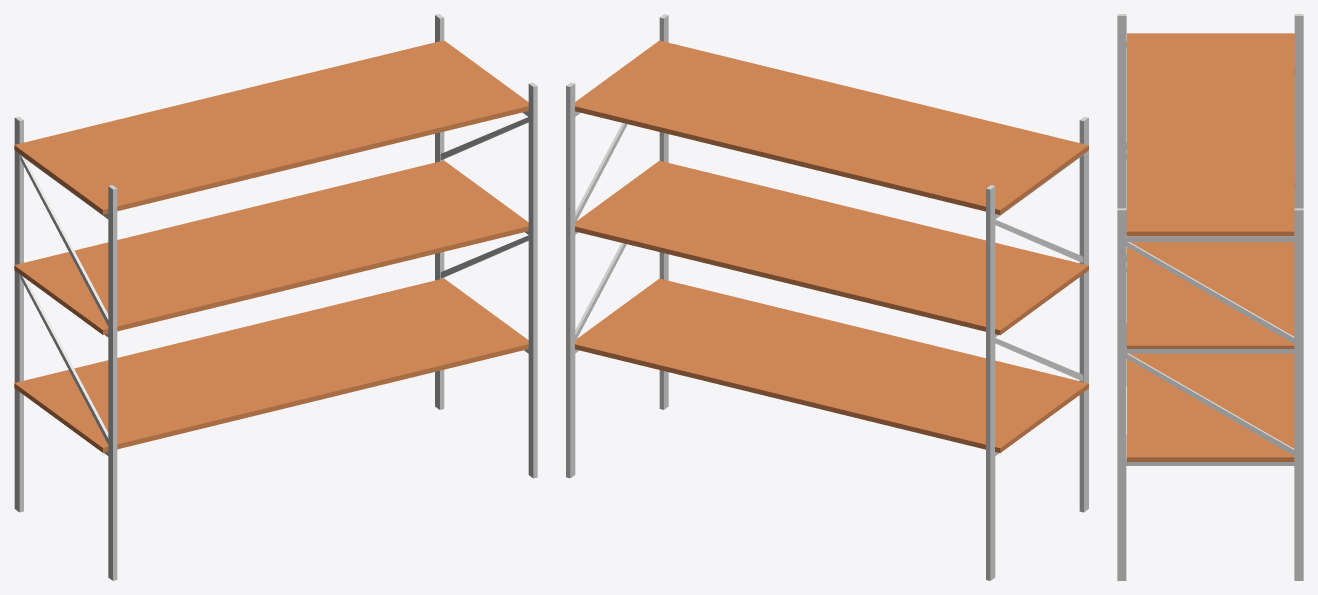
The model's file is rak.fbx.
3 views of the same model, side by side, from view 1: azimuth 30°, elevation 25°; view 2: azimuth 150°, elevation 25°; view 3: azimuth 270°, elevation 25° (orthographic). The views are drawn at different scales.
Visible parts, largest first — view 1: tempat 3, tempat 3.001, tempat 3.002, kaki kiri.002, kaki kiri.001; view 2: tempat 3, tempat 3.001, tempat 3.002, kaki kiri.002, kaki kiri.001; view 3: tempat 3, tempat 3.002, tempat 3.001, kaki kiri.001, kaki kiri.002.
Boxes of the visible parts, left/top/right/bottom form: tempat 3: left=14, top=40, right=528, bottom=214; tempat 3.001: left=14, top=160, right=528, bottom=334; tempat 3.002: left=14, top=278, right=528, bottom=452; kaki kiri.002: left=14, top=116, right=117, bottom=580; kaki kiri.001: left=435, top=14, right=537, bottom=478; tempat 3: left=575, top=40, right=1088, bottom=214; tempat 3.001: left=575, top=160, right=1088, bottom=335; tempat 3.002: left=575, top=278, right=1088, bottom=452; kaki kiri.002: left=986, top=116, right=1088, bottom=580; kaki kiri.001: left=566, top=14, right=668, bottom=478; tempat 3: left=1126, top=33, right=1294, bottom=236; tempat 3.002: left=1126, top=353, right=1294, bottom=461; tempat 3.001: left=1126, top=151, right=1294, bottom=348; kaki kiri.001: left=1117, top=208, right=1303, bottom=580; kaki kiri.002: left=1117, top=14, right=1303, bottom=386.
Bounding box in the file's own units: 109 × 94.5 × 43.1.
